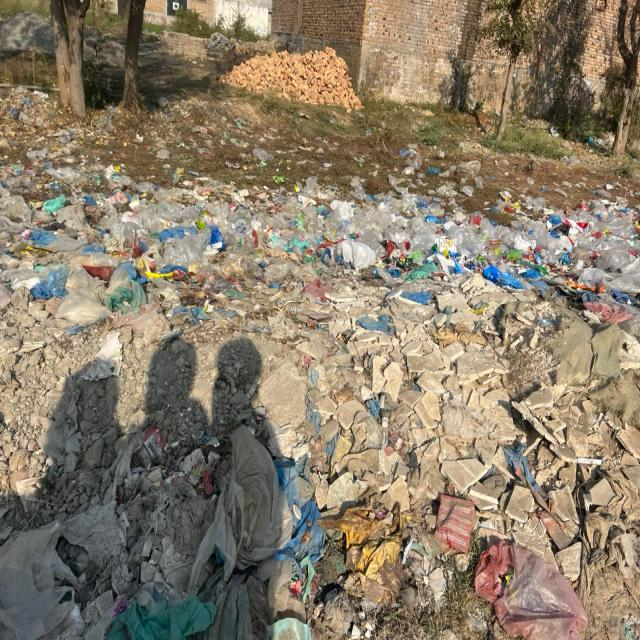garbage: (19, 421, 640, 637), (10, 195, 640, 402)
